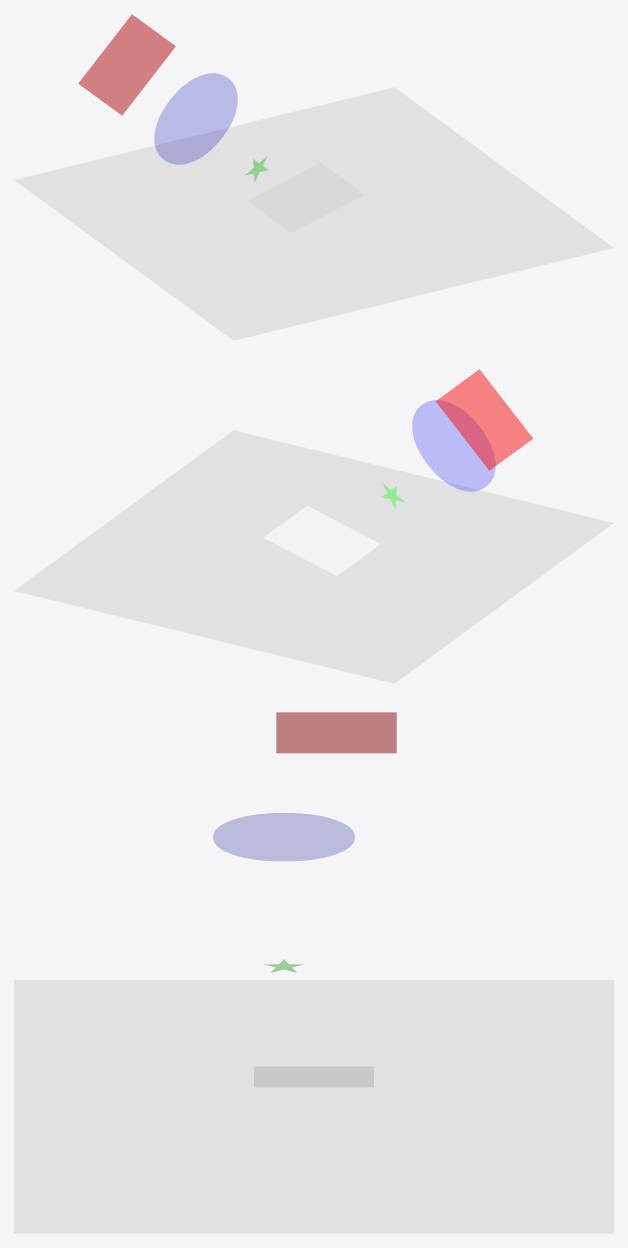
File: teapot scene two.glb
3 views of the same model, one above another, from view 1: azimuth 30°, elevation 25°; view 2: azimuth 150°, elevation 25°; view 3: azimuth 270°, elevation 25° (orthographic). The views are drawn at different scales.
Visible parts, largest first — view 1: plane, circle lens, square lens, plane.001; view 2: plane, square lens, plane.001, circle lens; view 3: plane, circle lens, square lens, plane.001.
Part boxes in pixels (x1,y1,x2,y2): plane: (14,87,613,340); circle lens: (154,73,237,164); square lens: (78,14,175,115); plane.001: (247,162,364,232); plane: (14,430,613,683); square lens: (436,369,532,470); plane.001: (263,505,380,575); circle lens: (412,400,495,491); plane: (14,980,613,1233); circle lens: (213,813,354,860); square lens: (276,712,396,753); plane.001: (254,1066,373,1087).
Bounding box in the file's own units: 20.81 × 10.79 × 20.
Materials: 4 (4 with a texture image).
